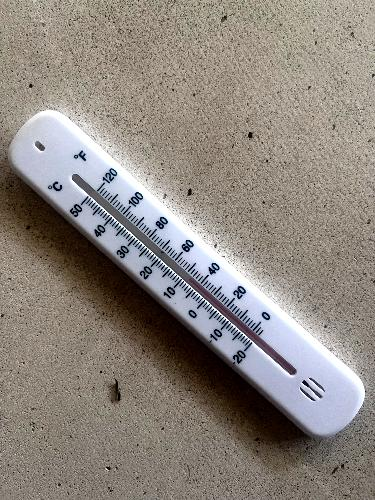thermo: (0, 97, 374, 449)
